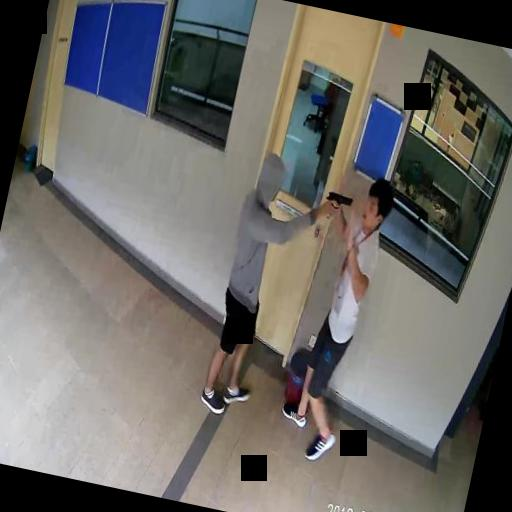Handgun: (323, 190, 352, 221)
